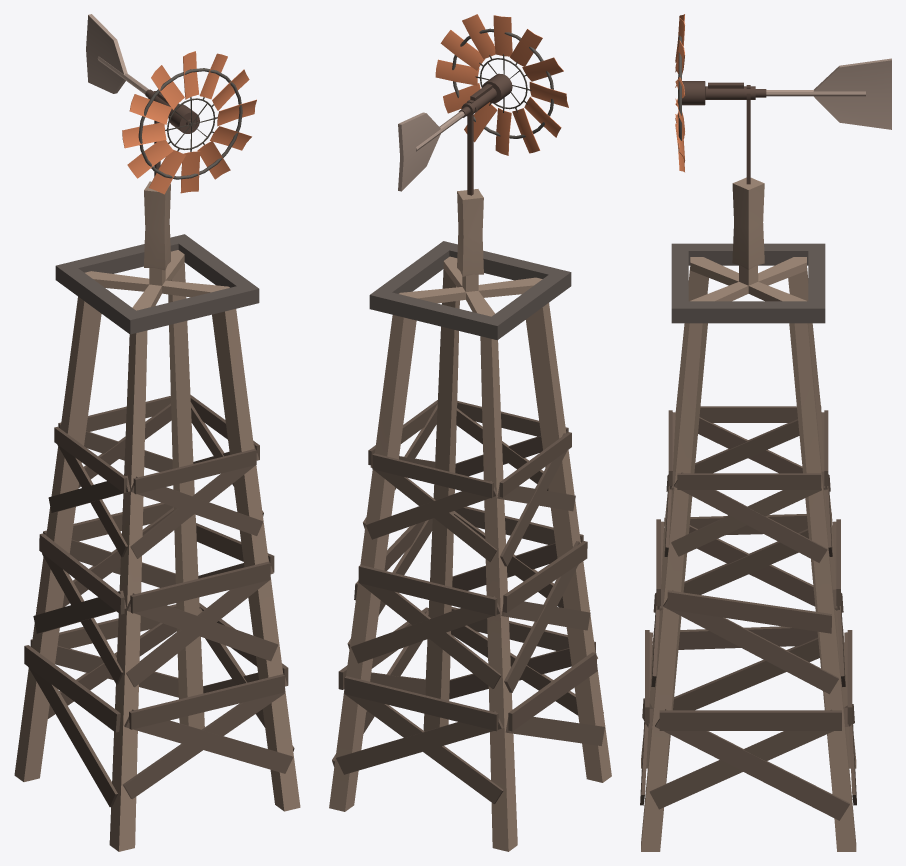
Rendered from Catavento.fbx.
3 renders of one model, left to right at view 1: azimuth 30°, elevation 25°; view 2: azimuth 150°, elevation 25°; view 3: azimuth 270°, elevation 25°, orthographic. The views are drawn at different scales.
Parts seen in each view (by area): view 1: TabuasCataventoLP, TorreCataventoLP, DivisaCataventoLP, HeliceCataventoLP, DirCataventoLP, FerroLigaHelicesLP, ApoioHeliceCataventoLP, GiroHeliceCataventoLP; view 2: TabuasCataventoLP, TorreCataventoLP, DivisaCataventoLP, HeliceCataventoLP, DirCataventoLP, ApoioHeliceCataventoLP, FerroLigaHelicesLP; view 3: TabuasCataventoLP, TorreCataventoLP, DivisaCataventoLP, DirCataventoLP, ApoioHeliceCataventoLP, HeliceCataventoLP.
Part boxes in pixels (left/top/right/bottom): TabuasCataventoLP: left=24, top=394, right=294, bottom=807; TorreCataventoLP: left=14, top=181, right=300, bottom=851; DivisaCataventoLP: left=55, top=234, right=259, bottom=334; HeliceCataventoLP: left=122, top=51, right=256, bottom=194; DirCataventoLP: left=86, top=14, right=148, bottom=94; FerroLigaHelicesLP: left=138, top=68, right=242, bottom=179; ApoioHeliceCataventoLP: left=145, top=89, right=199, bottom=176; GiroHeliceCataventoLP: left=165, top=97, right=217, bottom=151; TabuasCataventoLP: left=332, top=400, right=604, bottom=803; TorreCataventoLP: left=329, top=189, right=611, bottom=851; DivisaCataventoLP: left=369, top=241, right=571, bottom=340; HeliceCataventoLP: left=435, top=14, right=568, bottom=155; DirCataventoLP: left=398, top=111, right=464, bottom=191; ApoioHeliceCataventoLP: left=459, top=73, right=512, bottom=195; FerroLigaHelicesLP: left=452, top=28, right=553, bottom=138; TabuasCataventoLP: left=640, top=406, right=856, bottom=820; TorreCataventoLP: left=641, top=177, right=856, bottom=851; DivisaCataventoLP: left=671, top=243, right=825, bottom=323; DirCataventoLP: left=766, top=58, right=891, bottom=129; ApoioHeliceCataventoLP: left=682, top=81, right=766, bottom=184; HeliceCataventoLP: left=675, top=14, right=685, bottom=172.
Size of the model in its own units: 222 by 881 by 256.
